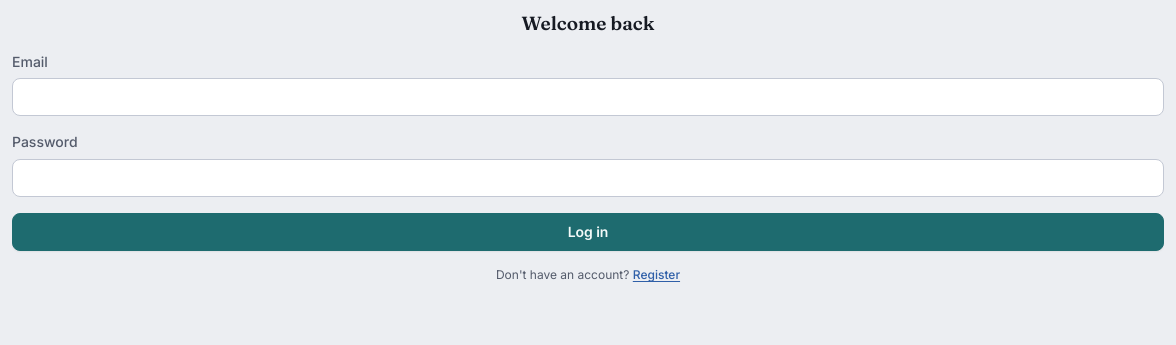
Test case: LoginForm › shows field-level validation errors instead of submitting when the form is empty
The width and height of the screenshot is (1176, 345).
Click the button "Log in" at (588, 232), box x1=12 y1=213 x2=1164 y2=251
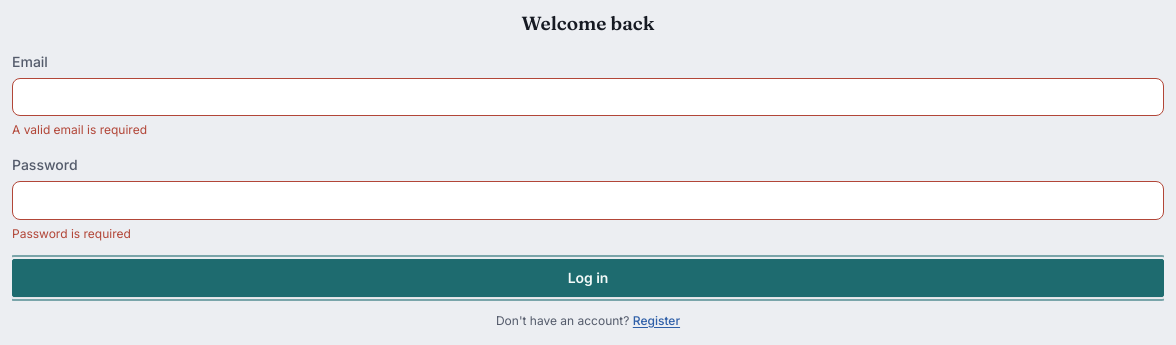
Check: the text "A valid email is required" is shown, box x1=12 y1=122 x2=147 y2=137
